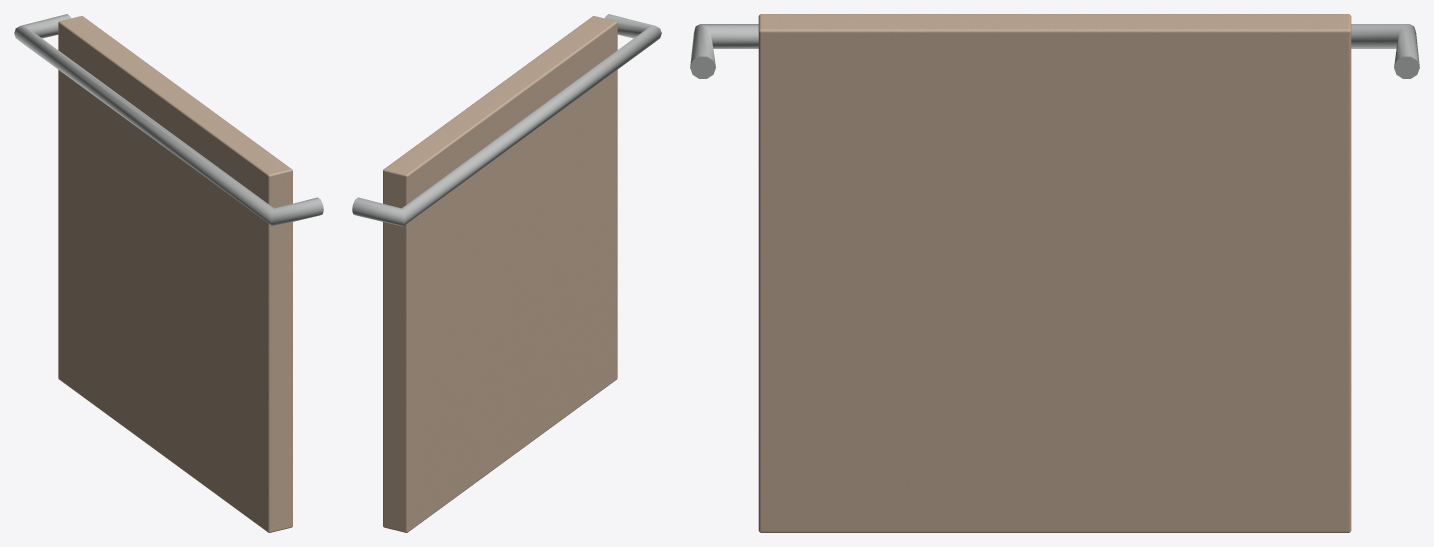
Rendered from vanity_wall_towel.glb.
The picture shows the model from 3 angles, left to right: view 1: azimuth 30°, elevation 25°; view 2: azimuth 150°, elevation 25°; view 3: azimuth 270°, elevation 25°; orthographic projection. The views are drawn at different scales.
Visible parts, largest first — view 1: Bathroom detail folded hand towel, Bathroom detail towel rail; view 2: Bathroom detail folded hand towel, Bathroom detail towel rail; view 3: Bathroom detail folded hand towel, Bathroom detail towel rail.
Part boxes in pixels (left/top/right/bottom): Bathroom detail folded hand towel: left=58, top=16, right=292, bottom=532; Bathroom detail towel rail: left=14, top=14, right=323, bottom=226; Bathroom detail folded hand towel: left=383, top=16, right=617, bottom=532; Bathroom detail towel rail: left=352, top=14, right=661, bottom=226; Bathroom detail folded hand towel: left=758, top=14, right=1351, bottom=532; Bathroom detail towel rail: left=690, top=24, right=1419, bottom=78.
Bounding box in the file's own units: 0.0449 × 0.3 × 0.394.
2 materials, 1 textured.
